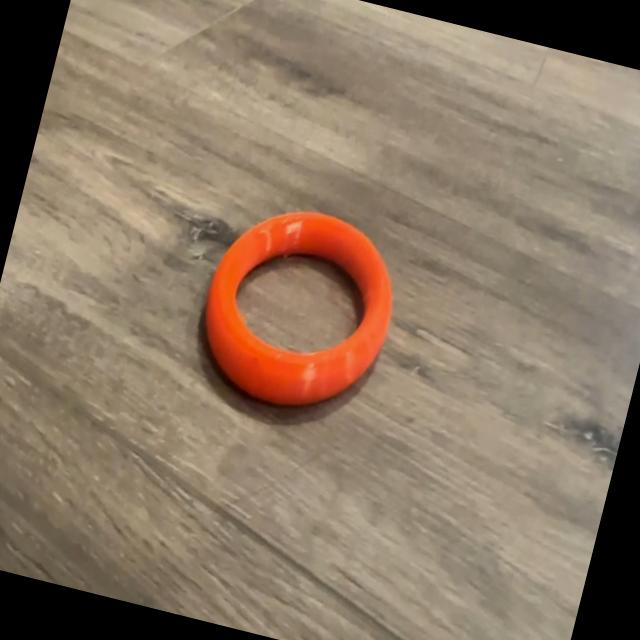note: (184, 188, 412, 434)
